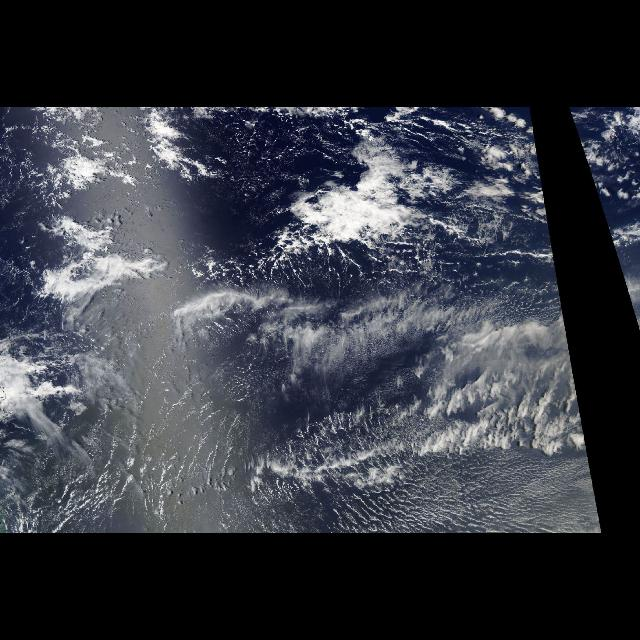Sugar: (80, 362, 602, 534)
